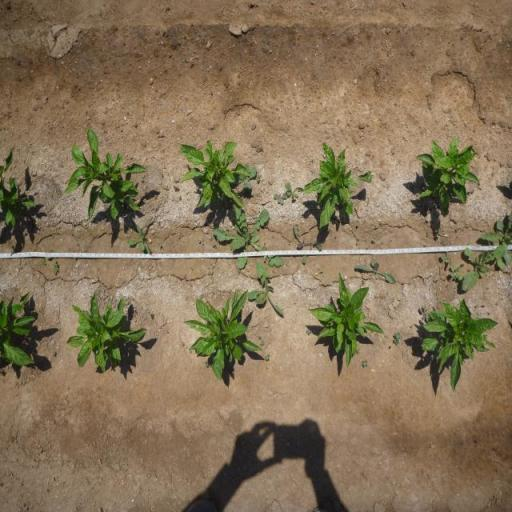plant: (64, 124, 150, 222), (420, 297, 501, 392), (306, 272, 385, 369), (182, 288, 262, 381), (65, 289, 148, 374), (302, 140, 373, 224), (178, 135, 250, 212), (412, 136, 481, 216), (0, 147, 38, 229), (0, 288, 36, 367)
weed: (212, 201, 284, 270), (248, 260, 289, 317), (461, 244, 506, 292), (478, 208, 512, 246), (293, 225, 323, 265), (354, 258, 397, 284), (126, 222, 152, 254), (233, 163, 258, 194), (284, 184, 304, 200), (451, 264, 463, 282), (272, 192, 287, 206), (440, 250, 452, 266), (420, 305, 429, 322), (393, 331, 402, 346), (361, 358, 369, 368), (40, 258, 47, 268), (172, 184, 180, 192), (264, 352, 270, 362), (52, 259, 59, 267), (204, 361, 212, 368), (435, 228, 440, 238), (52, 267, 58, 275), (149, 312, 155, 320), (306, 328, 312, 335), (257, 173, 260, 183), (372, 237, 376, 244), (258, 334, 262, 340), (320, 268, 324, 274), (356, 348, 360, 354), (260, 341, 264, 346), (374, 224, 378, 229), (52, 351, 55, 357), (158, 244, 162, 248), (334, 234, 337, 239), (178, 194, 180, 201), (182, 342, 184, 346)
